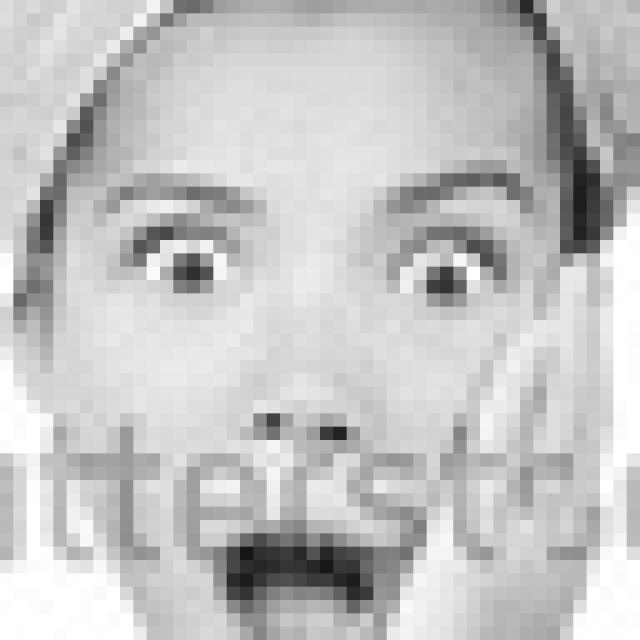surprise: (75, 161, 552, 640)
